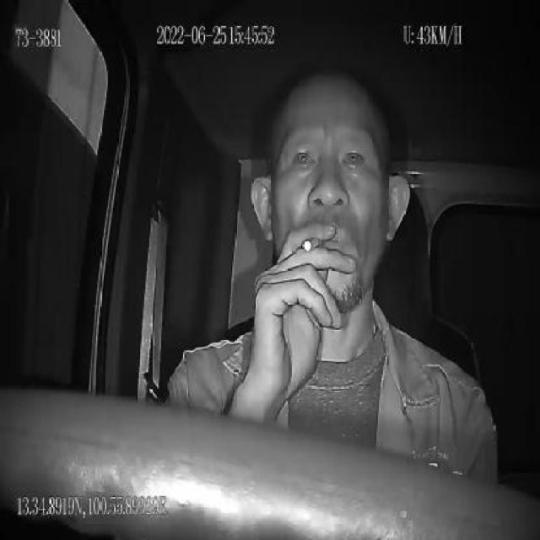smoking: (303, 237, 323, 251)
